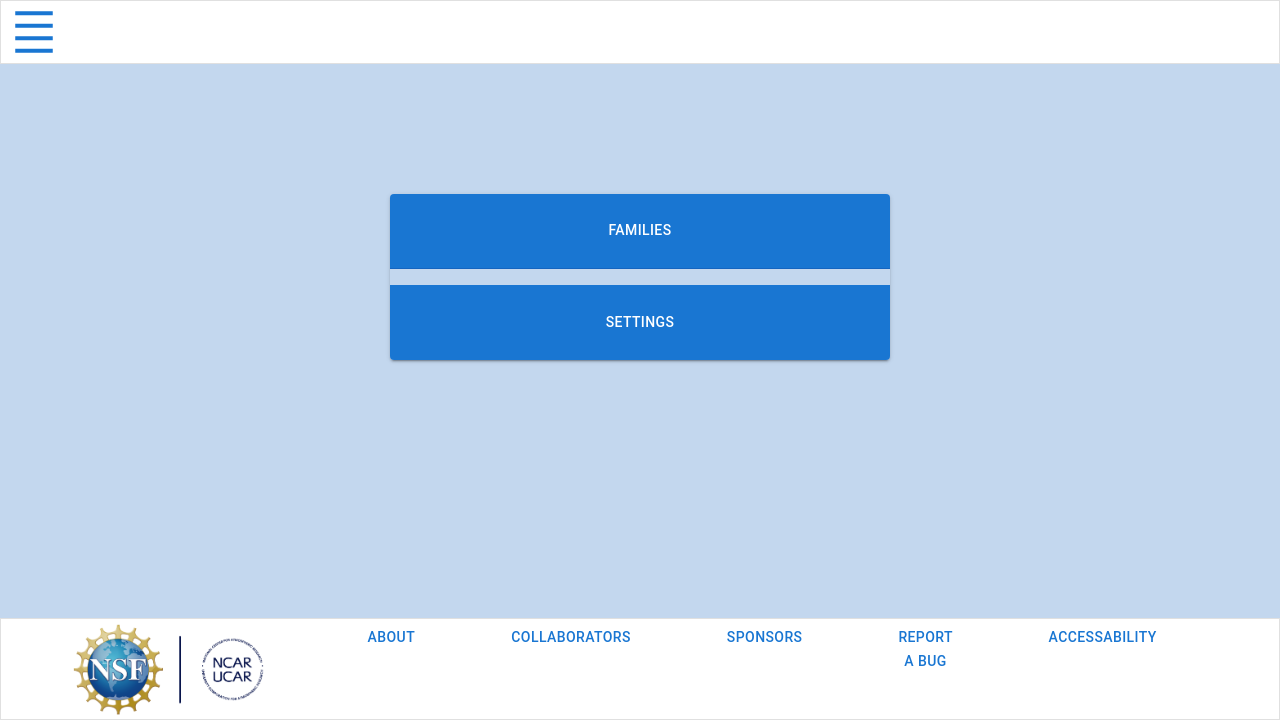
Test: LoggedIn Component Test › should open the Drawer when clicking the DensitySmallSharpIcon button
The width and height of the screenshot is (1280, 720).
Note: Simulate a click event on the button to open the Drawer
Click the button with test id "DensitySmallSharpIcon": {"x": 34, "y": 32} x1=1 y1=1 x2=67 y2=63
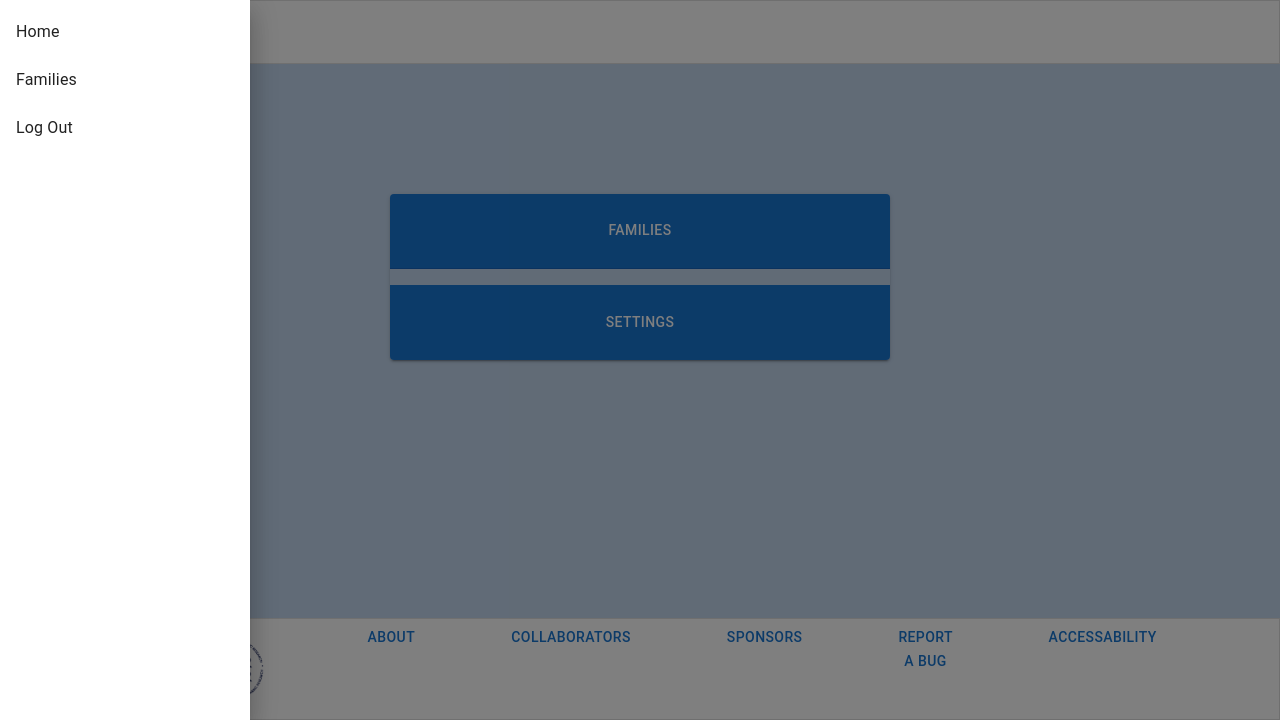
Now the text "Log Out" is shown, box x1=16 y1=118 x2=73 y2=137
